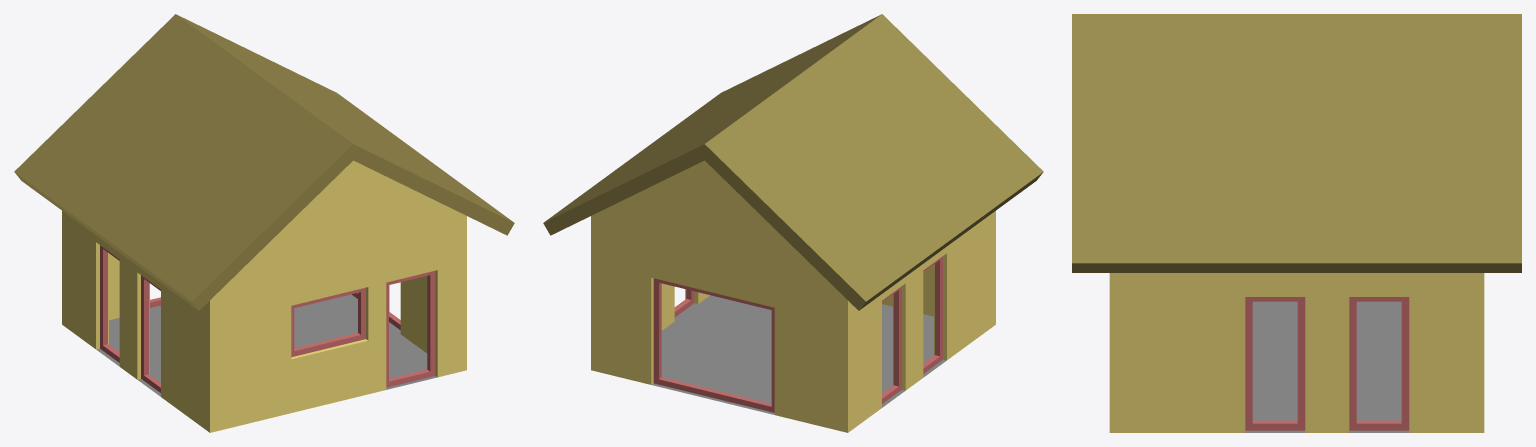
The model's file is result.glb.
3 views of the same model, side by side, from view 1: azimuth 30°, elevation 25°; view 2: azimuth 150°, elevation 25°; view 3: azimuth 270°, elevation 25° (orthographic). The views are drawn at different scales.
Parts seen in each view (by area): view 1: ac814843-c146-448b-819d-3776f5a92350__undefined (×2), 5e6bae36-e486-4fd7-8854-b5e7b749cc32__undefined, 2b742588-d03b-4cdb-9d1f-54ade76aa37c__Plane_8, 83406d62-58f0-4a68-bdc4-574885118183__Box, 2f28b0d0-dd82-444d-8bb0-ddcb8d5e21bf__Box_3, a4620e95-7a5f-4454-860a-d1fffe6304a6__Box_12, 8091ecca-771b-4804-b32b-82f8330c911c__Box_15; view 2: ac814843-c146-448b-819d-3776f5a92350__undefined (×2), 5e6bae36-e486-4fd7-8854-b5e7b749cc32__undefined, 2b742588-d03b-4cdb-9d1f-54ade76aa37c__Plane_8, a0701ad4-5bba-4d16-8e38-3a8b3ce216ea__Box_9, 8091ecca-771b-4804-b32b-82f8330c911c__Box_15, a4620e95-7a5f-4454-860a-d1fffe6304a6__Box_12; view 3: ac814843-c146-448b-819d-3776f5a92350__undefined, 5e6bae36-e486-4fd7-8854-b5e7b749cc32__undefined, 2b742588-d03b-4cdb-9d1f-54ade76aa37c__Plane_8, b46c9e45-1ef4-4395-9e10-0f3004373f43__Box_18, 537dd7e3-8d3f-47bb-b23c-1bd31439adb8__Box_21.
Boxes of the visible parts, x1,y1,x2,y2 form: ac814843-c146-448b-819d-3776f5a92350__undefined (×2): (14,14,514,310); 5e6bae36-e486-4fd7-8854-b5e7b749cc32__undefined: (62,160,466,432); 2b742588-d03b-4cdb-9d1f-54ade76aa37c__Plane_8: (96,294,437,396); 83406d62-58f0-4a68-bdc4-574885118183__Box: (386,271,435,387); 2f28b0d0-dd82-444d-8bb0-ddcb8d5e21bf__Box_3: (291,287,365,357); a4620e95-7a5f-4454-860a-d1fffe6304a6__Box_12: (141,275,160,392); 8091ecca-771b-4804-b32b-82f8330c911c__Box_15: (100,245,119,362); ac814843-c146-448b-819d-3776f5a92350__undefined (×2): (543,14,1043,310); 5e6bae36-e486-4fd7-8854-b5e7b749cc32__undefined: (591,160,995,432); 2b742588-d03b-4cdb-9d1f-54ade76aa37c__Plane_8: (652,295,946,414); a0701ad4-5bba-4d16-8e38-3a8b3ce216ea__Box_9: (653,278,774,412); 8091ecca-771b-4804-b32b-82f8330c911c__Box_15: (882,286,901,403); a4620e95-7a5f-4454-860a-d1fffe6304a6__Box_12: (923,256,942,373); ac814843-c146-448b-819d-3776f5a92350__undefined: (1072,14,1521,272); 5e6bae36-e486-4fd7-8854-b5e7b749cc32__undefined: (1109,273,1484,432); 2b742588-d03b-4cdb-9d1f-54ade76aa37c__Plane_8: (1245,301,1409,432); b46c9e45-1ef4-4395-9e10-0f3004373f43__Box_18: (1245,297,1305,430); 537dd7e3-8d3f-47bb-b23c-1bd31439adb8__Box_21: (1349,297,1409,430).
Bounding box in the file's own units: 630 × 500 × 600.
